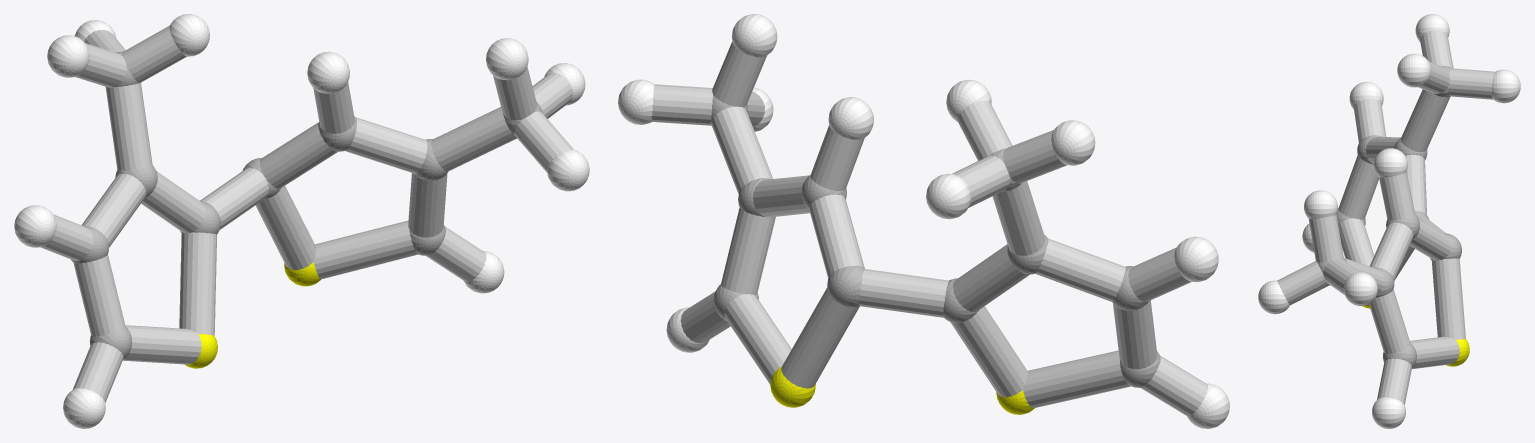
Rendered from Methylthiophene_Phi_50_Theta_220_Methylthiophene.glb.
3 views of the same model, side by side, from view 1: azimuth 30°, elevation 25°; view 2: azimuth 150°, elevation 25°; view 3: azimuth 270°, elevation 25° (orthographic). The views are drawn at different scales.
Parts seen in each view (by area): view 1: grp7965, grp3621, grp1, grp7241; view 2: grp7965, grp3621, grp1, grp7241; view 3: grp7965, grp3621, grp1, grp7241.
Boxes of the visible parts, left/top/right/bottom form: grp7965: left=41, top=26, right=573, bottom=402; grp3621: left=14, top=14, right=589, bottom=428; grp1: left=71, top=51, right=542, bottom=359; grp7241: left=184, top=262, right=320, bottom=368; grp7965: left=652, top=42, right=1208, bottom=416; grp3621: left=618, top=14, right=1229, bottom=428; grp1: left=711, top=94, right=1160, bottom=387; grp7241: left=770, top=367, right=1034, bottom=414; grp7965: left=1277, top=30, right=1494, bottom=404; grp3621: left=1258, top=14, right=1520, bottom=428; grp1: left=1317, top=66, right=1461, bottom=367; grp7241: left=1362, top=304, right=1469, bottom=366.
Size of the model in its own units: 9.09 by 5.13 by 4.62.
